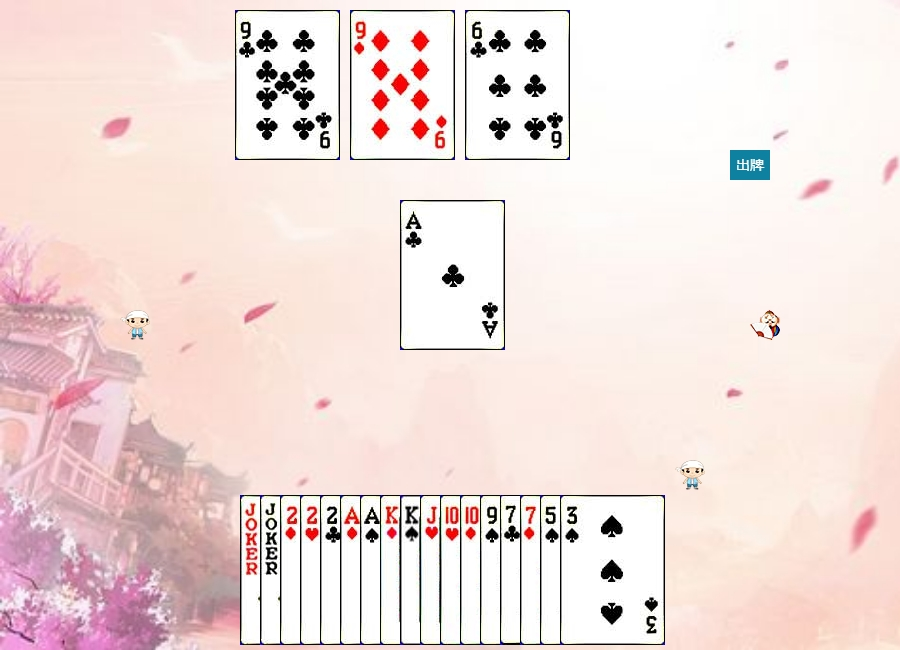10~1: (460, 495, 565, 645)
10~3: (440, 495, 545, 645)
11~3: (420, 495, 525, 645)
13~1: (380, 495, 485, 645)
13~4: (400, 495, 505, 645)
14~1: (340, 495, 445, 645)
14~2: (400, 200, 505, 350)
14~4: (360, 495, 465, 645)
15~1: (280, 495, 385, 645)
15~2: (320, 495, 425, 645)
15~3: (300, 495, 405, 645)
17~3: (260, 495, 365, 645)
18~4: (240, 495, 345, 645)
3~4: (560, 495, 665, 645)
5~4: (540, 495, 645, 645)
6~2: (465, 10, 570, 160)
7~1: (520, 495, 625, 645)
7~2: (500, 495, 605, 645)
9~1: (350, 10, 455, 160)
9~2: (235, 10, 340, 160)
9~4: (480, 495, 585, 645)
